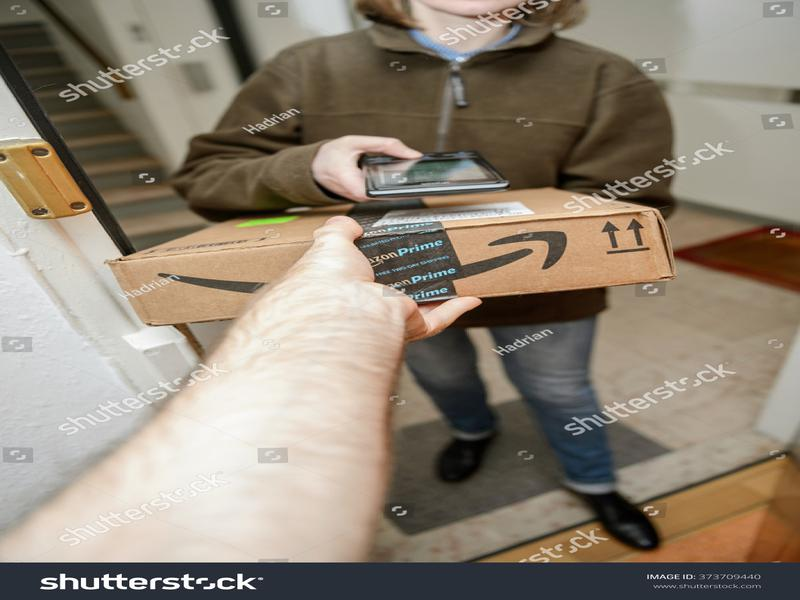package: (101, 175, 688, 330)
